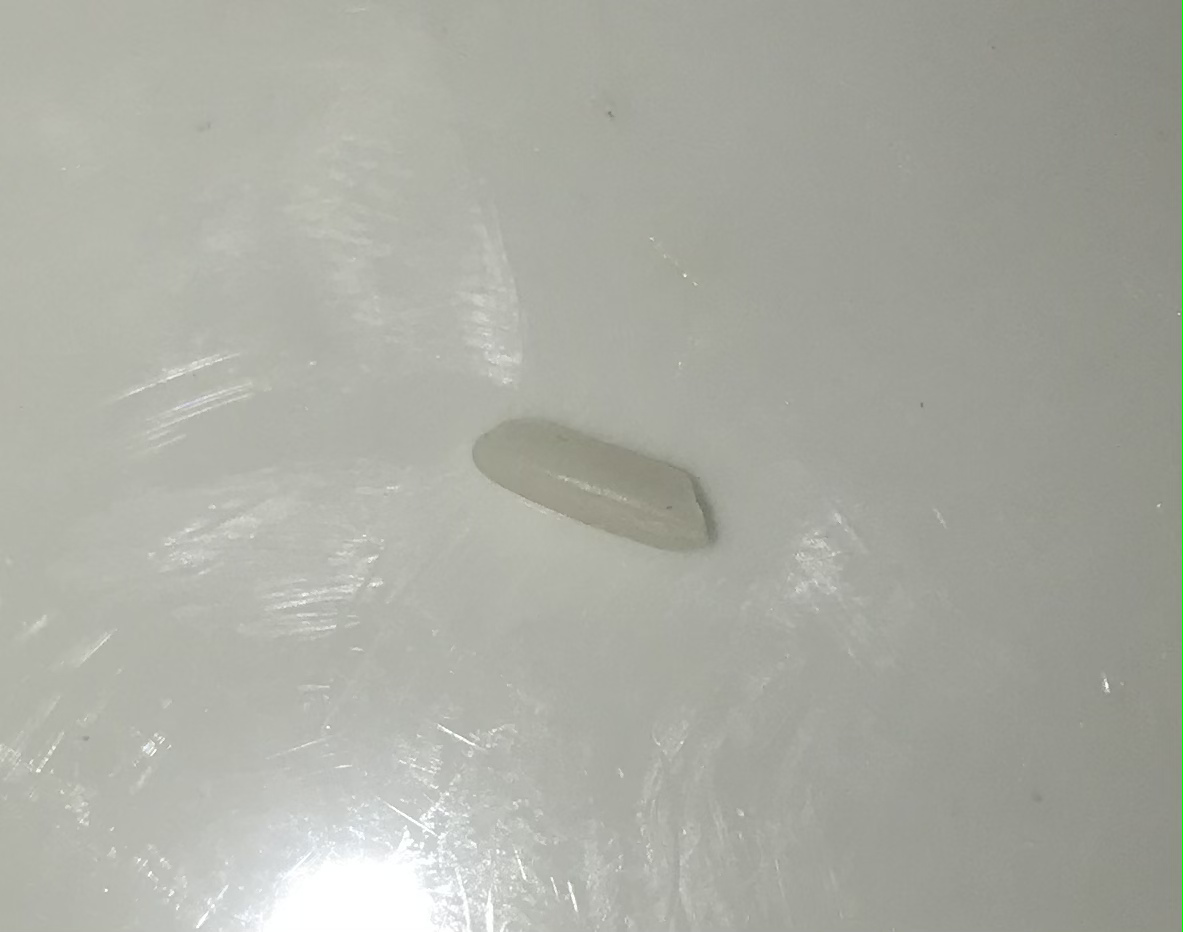Gao Lai Sua: (461, 394, 736, 573)
